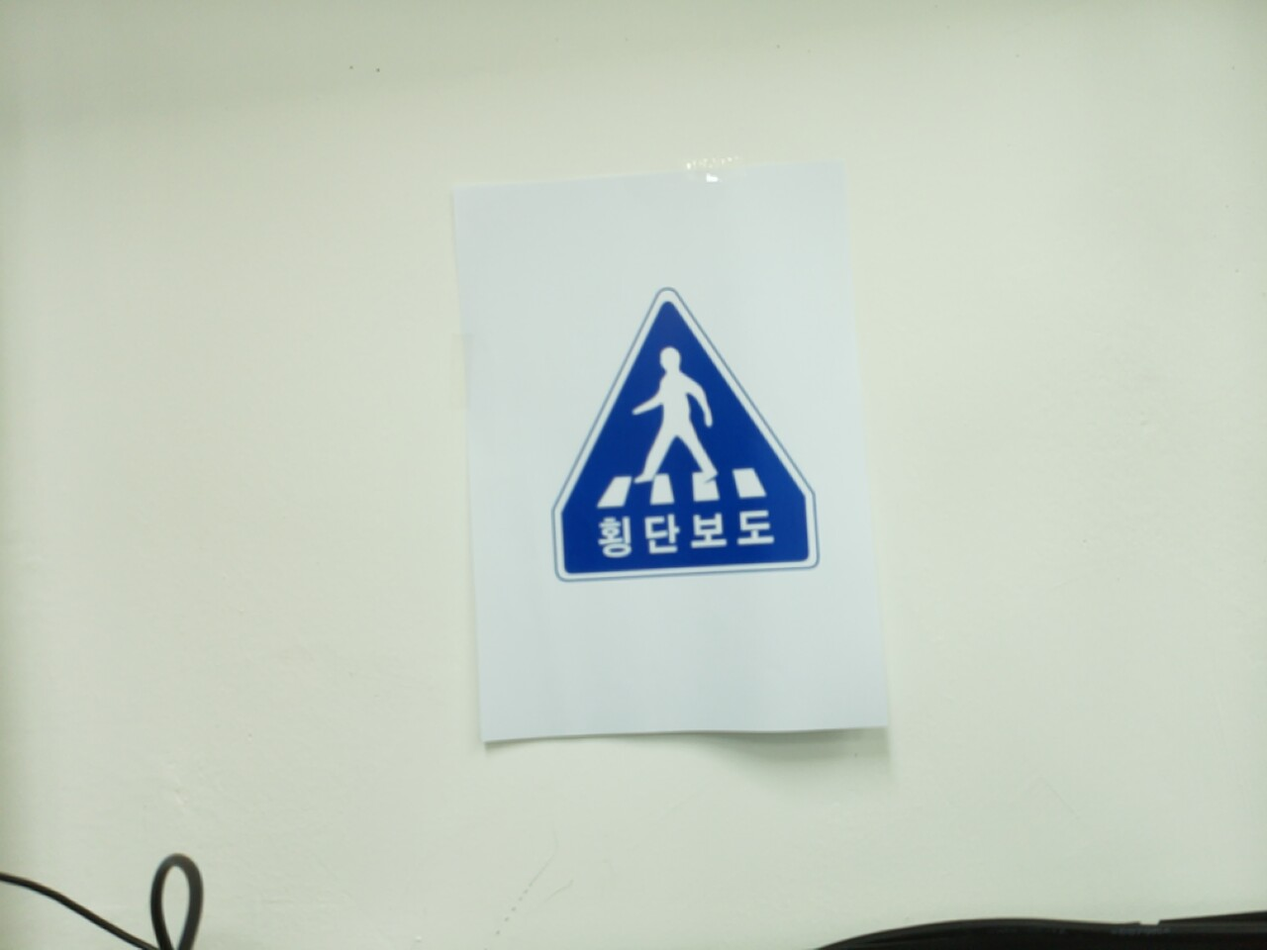crosswalk: (552, 292, 818, 583)
